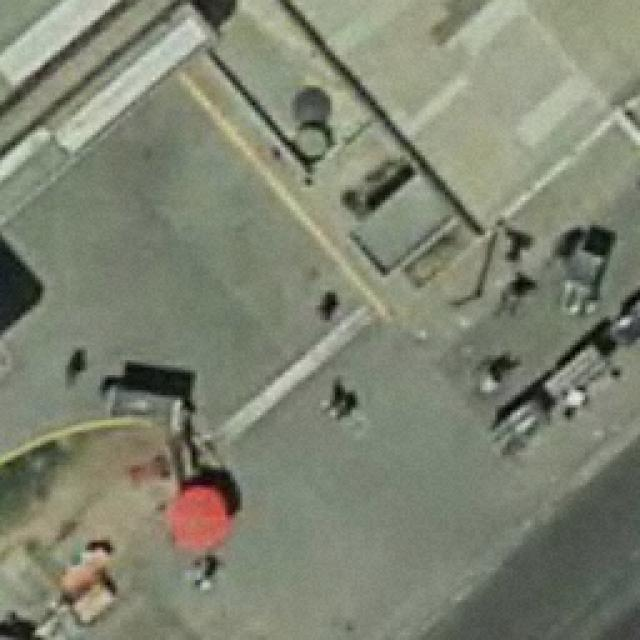vendedor_ambulante: (160, 478, 240, 556)
